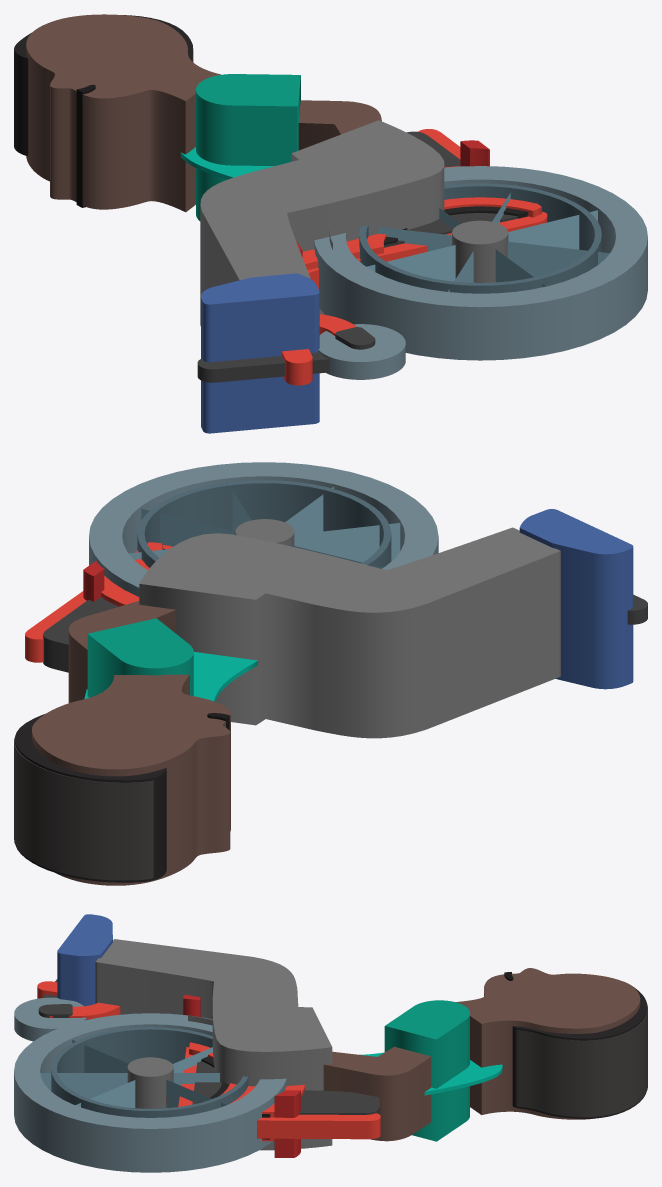
File: emoji_u1f468_1f3ff_200d_1f9bd.glb
3 views of the same model, one above another, from view 1: azimuth 30°, elevation 25°; view 2: azimuth 150°, elevation 25°; view 3: azimuth 270°, elevation 25° (orthographic). The views are drawn at different scales.
Parts seen in each view (by area): view 1: emoji_u1f468_1f3ff_200d_1f9bd; view 2: emoji_u1f468_1f3ff_200d_1f9bd; view 3: emoji_u1f468_1f3ff_200d_1f9bd.
Boxes of the visible parts, <box> form: emoji_u1f468_1f3ff_200d_1f9bd: <box>14,14,647,433</box>; emoji_u1f468_1f3ff_200d_1f9bd: <box>14,462,647,885</box>; emoji_u1f468_1f3ff_200d_1f9bd: <box>14,914,647,1172</box>.
Bounding box in the file's own units: 0.022 × 0.0058 × 0.0315.
